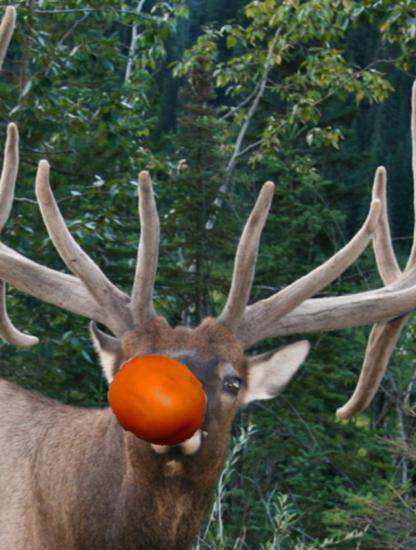Apricot: (107, 350, 209, 452)
